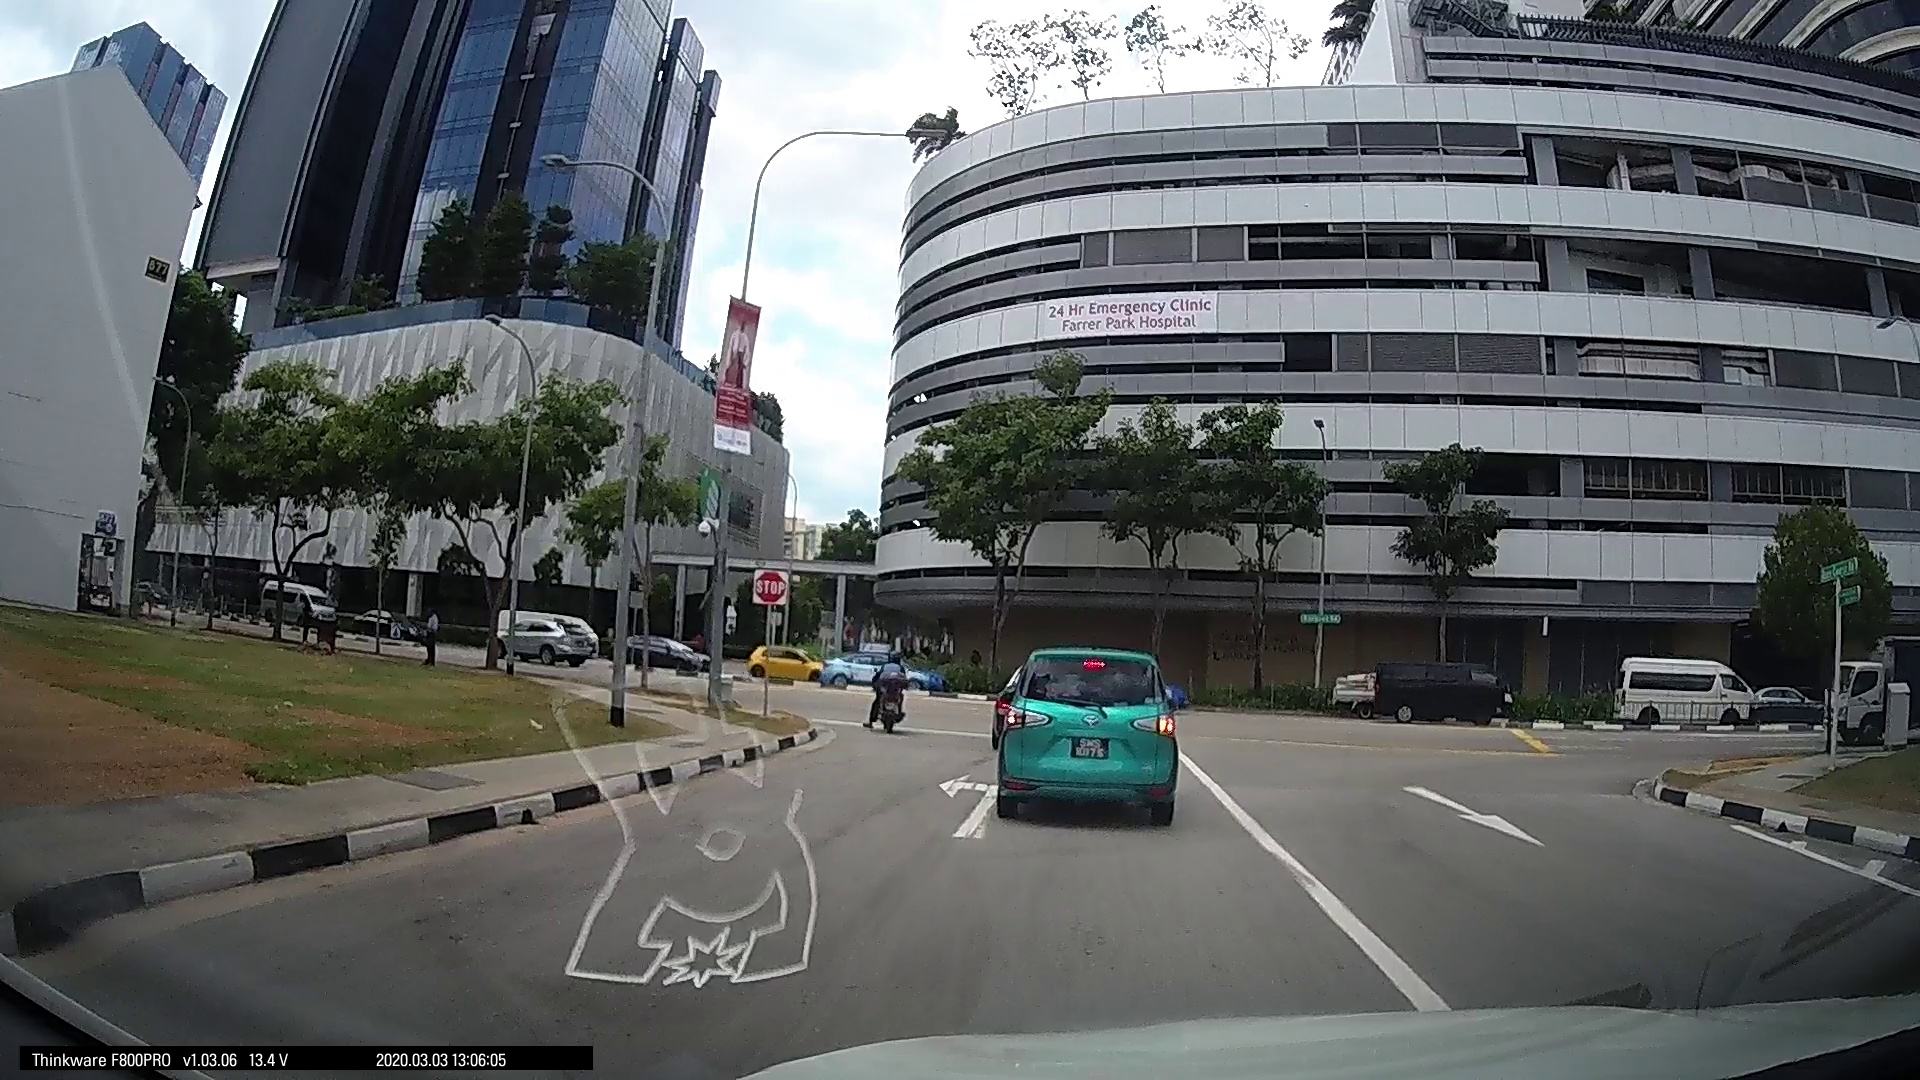Light Vehicle: (982, 634, 1178, 825), (1609, 655, 1760, 731), (1341, 654, 1505, 717), (491, 604, 599, 671), (735, 637, 820, 683)
